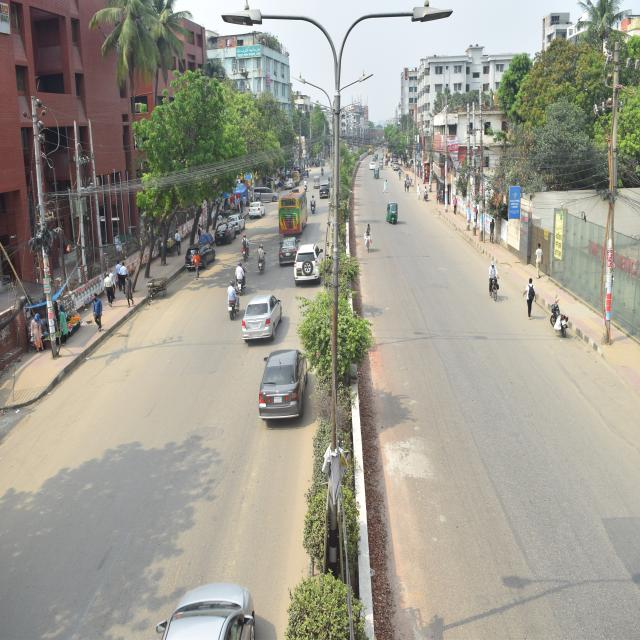bus: (278, 181, 310, 237)
car: (258, 355, 302, 420), (242, 299, 282, 340), (290, 236, 320, 286), (265, 226, 297, 268), (184, 237, 217, 271), (206, 212, 230, 246), (222, 191, 240, 219), (247, 193, 263, 222), (316, 172, 331, 199)
motorbike: (550, 298, 582, 346), (226, 286, 240, 318), (236, 260, 250, 290), (256, 252, 268, 277), (238, 232, 250, 250), (310, 189, 318, 213)
